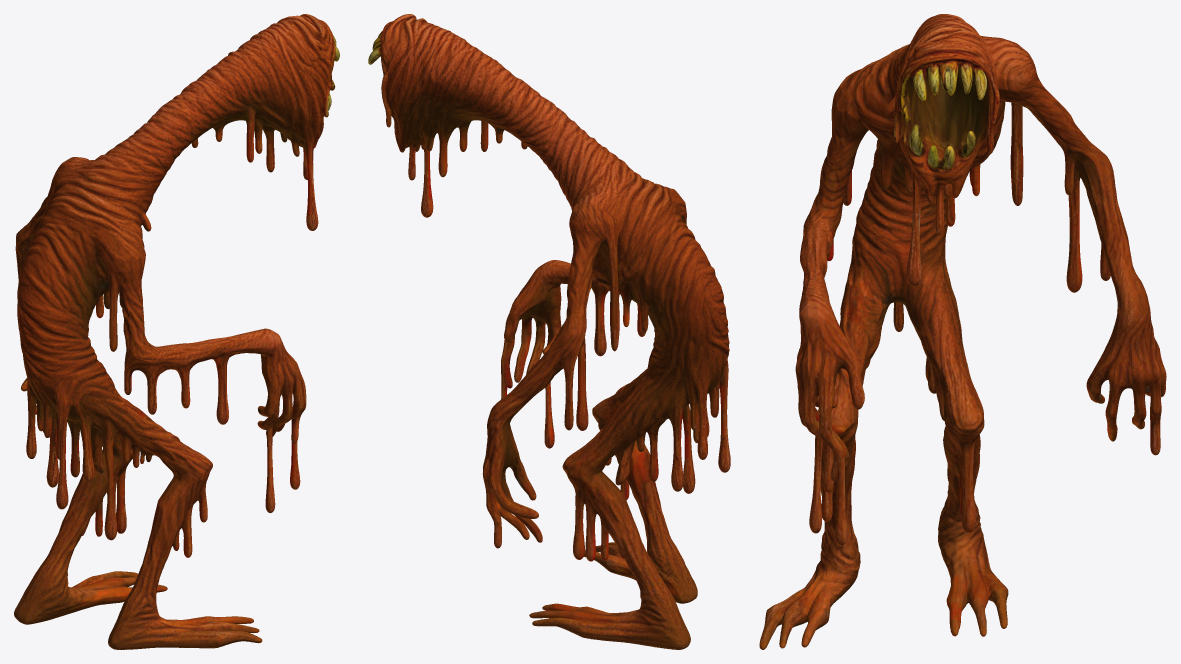
Rendered from Crimson Plague Human.glb.
3 renders of one model, left to right at view 1: azimuth 30°, elevation 25°; view 2: azimuth 150°, elevation 25°; view 3: azimuth 270°, elevation 25°, orthographic. The views are drawn at different scales.
Visible parts, largest first — view 1: tripo_node_22b33c13-41b1-469a-bddb-796ce49043e4; view 2: tripo_node_22b33c13-41b1-469a-bddb-796ce49043e4; view 3: tripo_node_22b33c13-41b1-469a-bddb-796ce49043e4.
Boxes of the visible parts, x1,y1,x2,y2 form: tripo_node_22b33c13-41b1-469a-bddb-796ce49043e4: (14,14,339,649); tripo_node_22b33c13-41b1-469a-bddb-796ce49043e4: (368,14,730,649); tripo_node_22b33c13-41b1-469a-bddb-796ce49043e4: (759,14,1166,649).
Bounding box in the file's own units: 0.6216 × 1 × 0.5353.
1 material, 1 textured.
